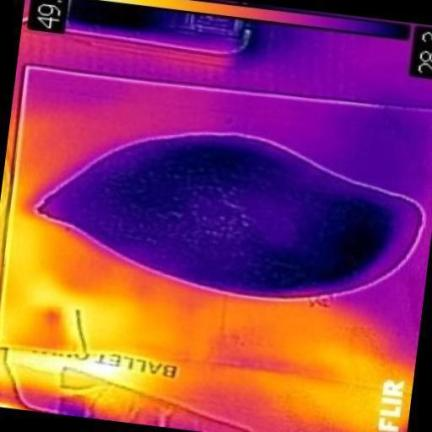mango: (37, 133, 422, 298)
